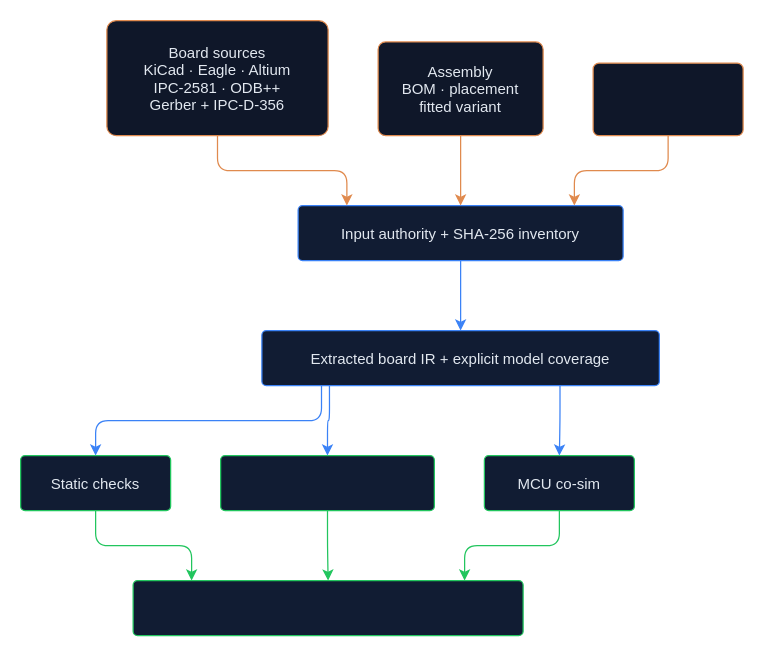
Image size: 764x656. Some labels were removed from this diagram. The box of each missing label's shape, as (x1, y1, x2, y2) in pixels:
Analog / AC / thermal: (219, 454, 434, 511)
Firmware + model packs: (592, 62, 743, 136)
Terminal · JSON · JUnit · SARIF · web · MCP: (132, 579, 523, 636)
